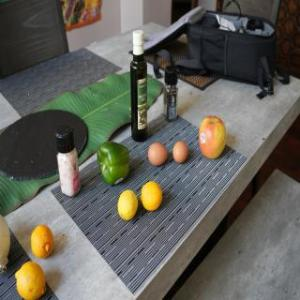bell_pepper: (94, 140, 132, 186)
egg: (146, 140, 167, 168), (172, 140, 188, 164)
onion: (1, 208, 9, 276)
